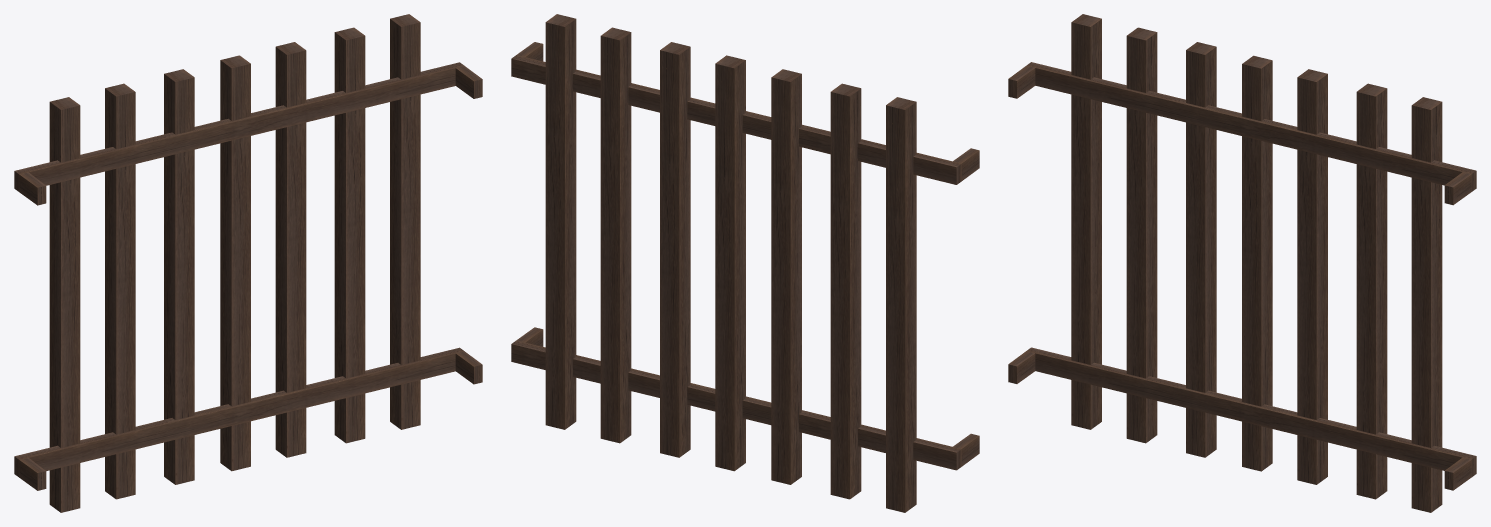
File: kousi01.fbx
The picture shows the model from 3 angles, left to right: view 1: azimuth 30°, elevation 25°; view 2: azimuth 150°, elevation 25°; view 3: azimuth 330°, elevation 25°; orthographic projection.
Visible parts, largest first — view 1: kousi01; view 2: kousi01; view 3: kousi01.
Part boxes in pixels (left/top/right/bottom): kousi01: left=14, top=14, right=482, bottom=512; kousi01: left=511, top=14, right=979, bottom=512; kousi01: left=1008, top=14, right=1476, bottom=512.
Bounding box in the file's own units: 125 × 108 × 15.13.
